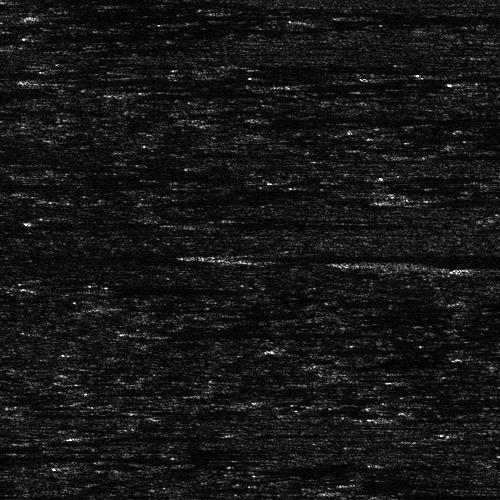rock: (115, 251, 292, 264), (196, 343, 363, 354), (336, 258, 441, 265), (259, 80, 332, 89), (448, 264, 500, 273), (206, 118, 289, 123), (434, 79, 500, 84), (178, 222, 241, 227), (63, 285, 116, 290), (286, 17, 339, 22), (134, 329, 187, 334), (345, 414, 398, 419), (367, 376, 420, 381), (64, 434, 105, 439), (20, 14, 51, 19), (421, 193, 432, 204), (0, 497, 35, 500), (0, 451, 7, 462), (453, 302, 474, 305)
shadow: (204, 251, 500, 264), (0, 451, 243, 462), (36, 14, 463, 19), (280, 343, 428, 354), (296, 80, 446, 89), (248, 118, 500, 123), (210, 222, 426, 227), (161, 329, 376, 334), (427, 193, 500, 204), (389, 258, 500, 265), (0, 221, 85, 230), (313, 17, 466, 22), (90, 285, 230, 290), (85, 434, 225, 439), (0, 179, 75, 188), (394, 376, 500, 381), (0, 443, 39, 454), (4, 497, 142, 500), (372, 414, 447, 419), (0, 91, 41, 98), (464, 302, 500, 305)
